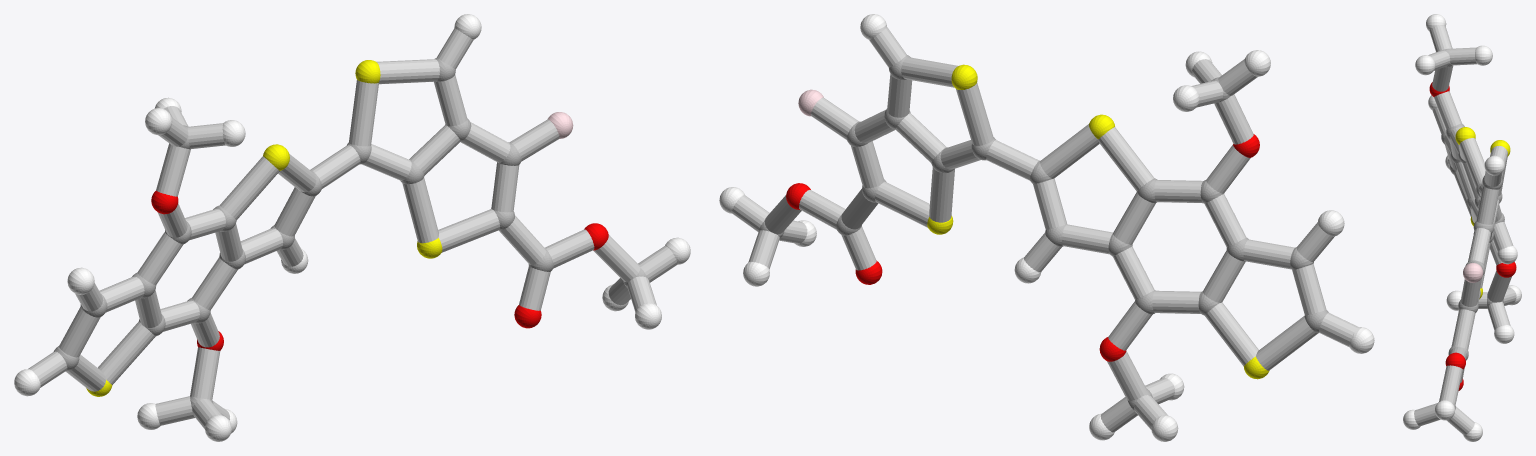
File: Dimethoxy_Benzodithiophene_Phi_10_Theta_150_Methylcarbonyl_3_Fluoro_Thienothiophene.glb
The picture shows the model from 3 angles, left to right: view 1: azimuth 30°, elevation 25°; view 2: azimuth 150°, elevation 25°; view 3: azimuth 270°, elevation 25°; orthographic projection. The views are drawn at different scales.
Parts seen in each view (by area): view 1: grp15205, grp8689, grp1, grp7241, grp13395; view 2: grp15205, grp8689, grp1, grp7241, grp13395; view 3: grp15205, grp8689, grp1, grp13395, grp7241, grp14843.
Part boxes in pixels (left/top/right/bottom): grp15205: left=28, top=28, right=677, bottom=429; grp8689: left=14, top=14, right=690, bottom=441; grp1: left=53, top=58, right=647, bottom=417; grp7241: left=86, top=60, right=442, bottom=396; grp13395: left=151, top=191, right=608, bottom=350; grp15205: left=731, top=27, right=1358, bottom=432; grp8689: left=719, top=14, right=1374, bottom=441; grp1: left=759, top=55, right=1328, bottom=410; grp7241: left=927, top=64, right=1269, bottom=379; grp13395: left=786, top=134, right=1259, bottom=361; grp15205: left=1414, top=25, right=1516, bottom=434; grp8689: left=1403, top=14, right=1521, bottom=441; grp1: left=1438, top=48, right=1504, bottom=409; grp13395: left=1429, top=82, right=1516, bottom=390; grp7241: left=1455, top=127, right=1510, bottom=298; grp14843: left=1463, top=263, right=1483, bottom=282.
Size of the model in its own units: 16.93 by 9.37 by 3.51.
